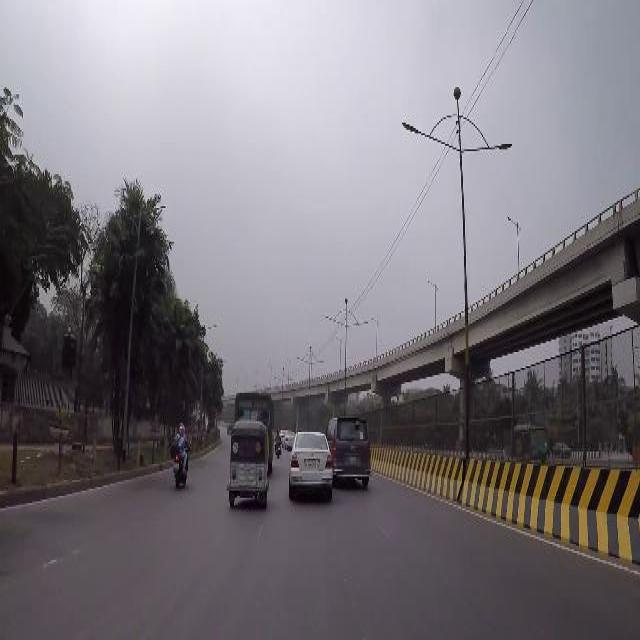bus: (234, 388, 274, 470)
car: (288, 432, 332, 496), (552, 442, 572, 458), (282, 428, 294, 447)
minivan: (328, 414, 370, 482)
motorbike: (171, 422, 189, 478), (274, 428, 280, 458)
three wheelers -CNG-: (229, 426, 269, 502), (512, 424, 546, 461)
